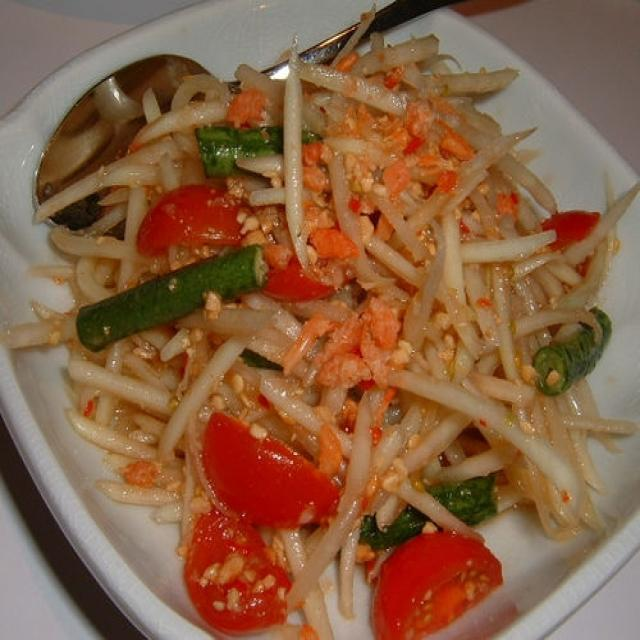蔬菜料理: (27, 24, 608, 628)
